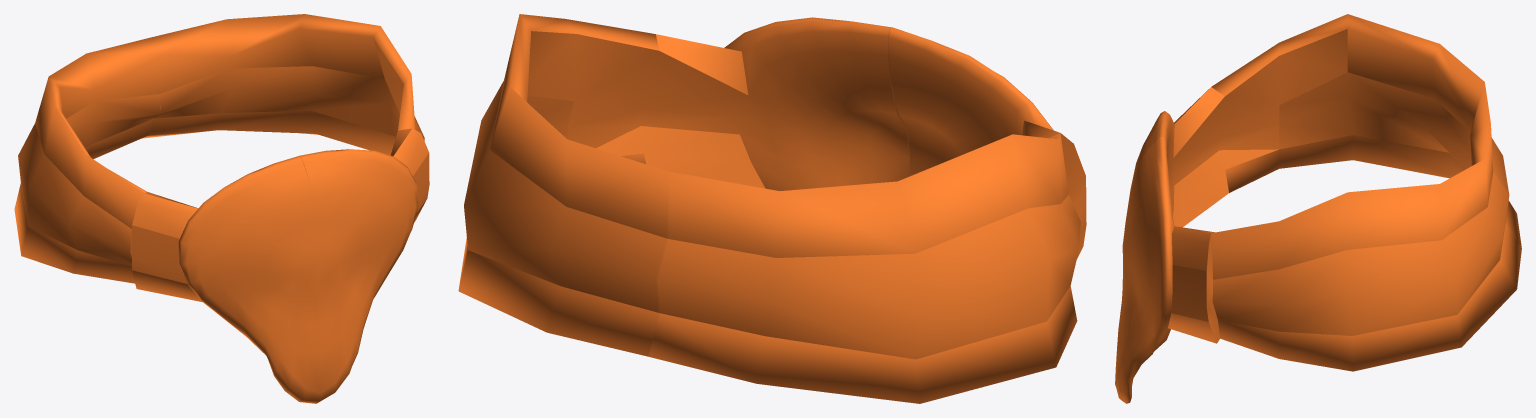
Rendered from belt_bronze.FBX.
The picture shows the model from 3 angles, left to right: view 1: azimuth 30°, elevation 25°; view 2: azimuth 150°, elevation 25°; view 3: azimuth 270°, elevation 25°; orthographic projection. The views are drawn at different scales.
Visible parts, largest first — view 1: Sphere004; view 2: Sphere004; view 3: Sphere004.
Boxes of the visible parts, <box> form: Sphere004: <box>14,14,429,403</box>; Sphere004: <box>458,14,1086,403</box>; Sphere004: <box>1115,14,1521,403</box>.
Bounding box in the file's own units: 0.3104 × 0.2033 × 0.2513.
